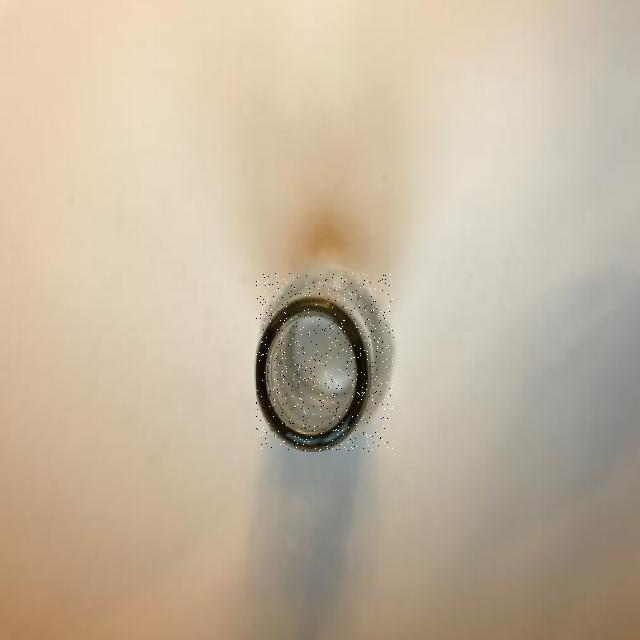metal: (256, 273, 394, 452)
